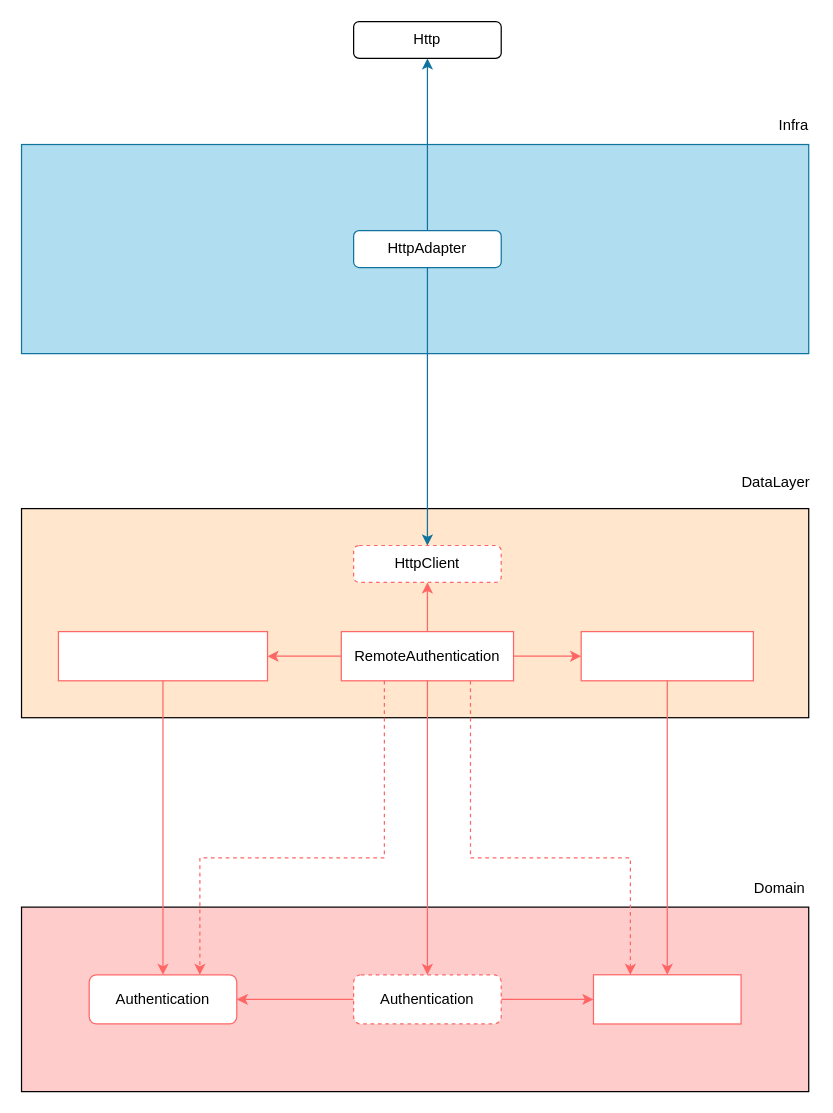
The diagram is 833 pixels wide and 1113 high, and some of its shapes have lost their labels. The shapes that lost their labels are listed below. From the top down, each one's centre as x and y in pixels, then its label:
pixel 162 655: RemoteAuthenticationParams
pixel 666 655: RemoteAccountModel
pixel 666 999: Account
